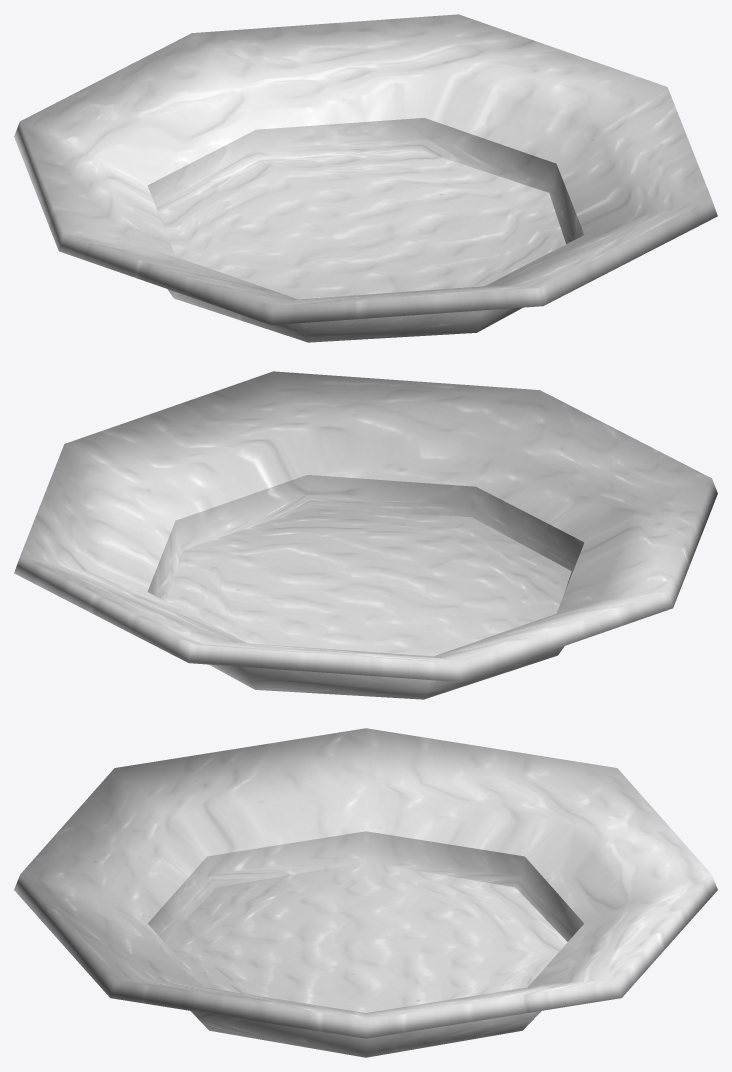
The model's file is Bedroom_plate.glb.
3 views of the same model, one above another, from view 1: azimuth 30°, elevation 25°; view 2: azimuth 150°, elevation 25°; view 3: azimuth 270°, elevation 25° (orthographic).
Visible parts, largest first — view 1: Cube.030; view 2: Cube.030; view 3: Cube.030.
Boxes of the visible parts, x1,y1,x2,y2 form: Cube.030: [14, 14, 717, 342]; Cube.030: [14, 371, 717, 699]; Cube.030: [14, 728, 717, 1057].
Size of the model in its own units: 1.15 by 0.1697 by 1.15.
1 material, 1 textured.
